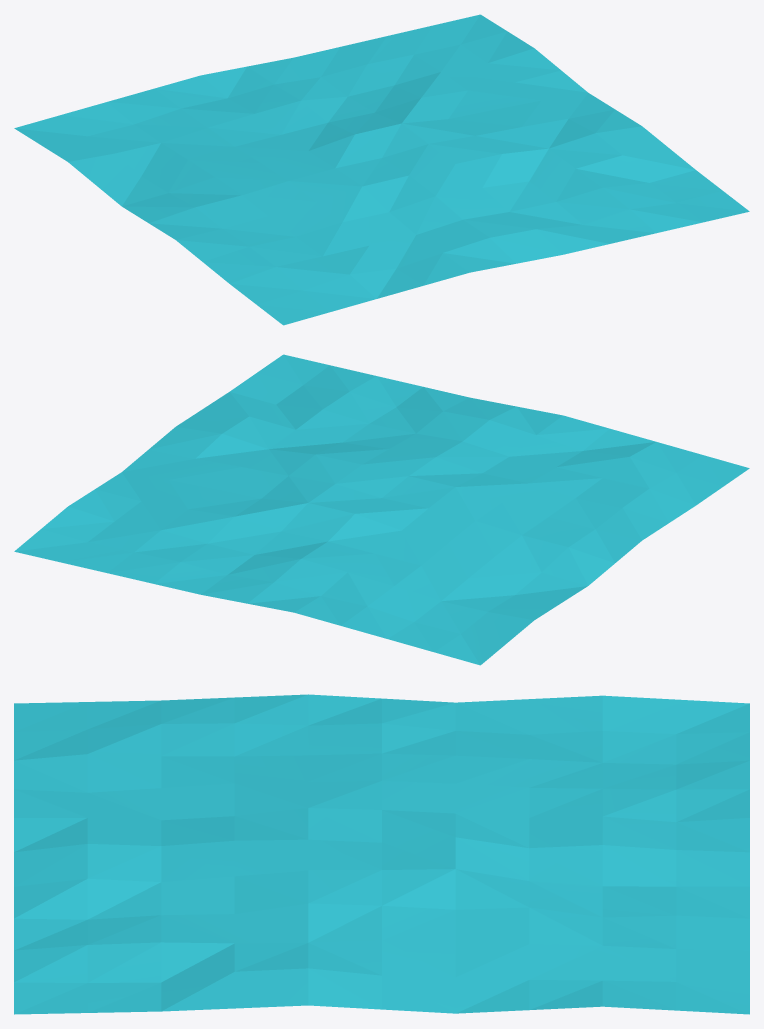
Rendered from terrain-plane-water.glb.
3 renders of one model, top to bottom at view 1: azimuth 30°, elevation 25°; view 2: azimuth 150°, elevation 25°; view 3: azimuth 270°, elevation 25°, orthographic. The views are drawn at different scales.
Parts seen in each view (by area): view 1: terrain-plane-water; view 2: terrain-plane-water; view 3: terrain-plane-water.
Boxes of the visible parts, x1,y1,x2,y2 form: terrain-plane-water: [14, 14, 749, 325]; terrain-plane-water: [14, 354, 749, 665]; terrain-plane-water: [14, 694, 749, 1014].
Size of the model in its own units: 30 by 0.988 by 30.
1 material, 1 textured.
